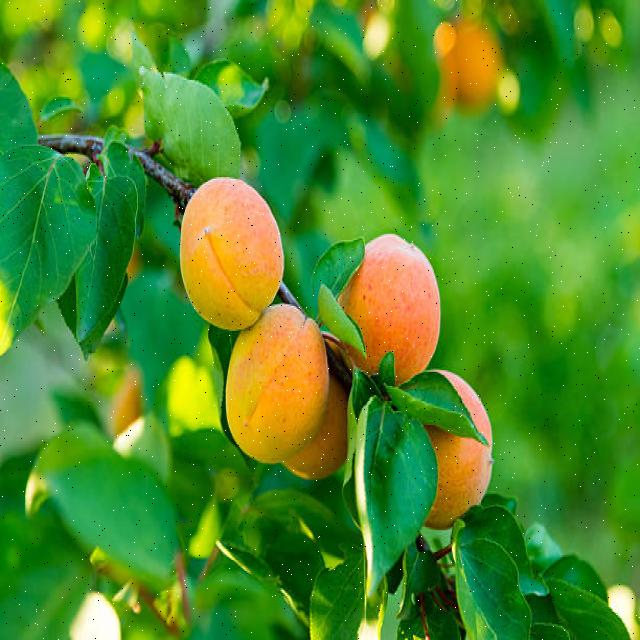kayisi: (191, 187, 283, 319), (224, 330, 332, 435), (336, 226, 430, 335), (419, 364, 479, 474), (457, 29, 505, 123)
yaprak: (228, 473, 350, 608), (49, 440, 160, 580), (7, 106, 69, 297), (378, 386, 440, 564), (83, 164, 146, 334), (155, 73, 248, 181), (461, 563, 531, 640), (556, 572, 622, 634)
